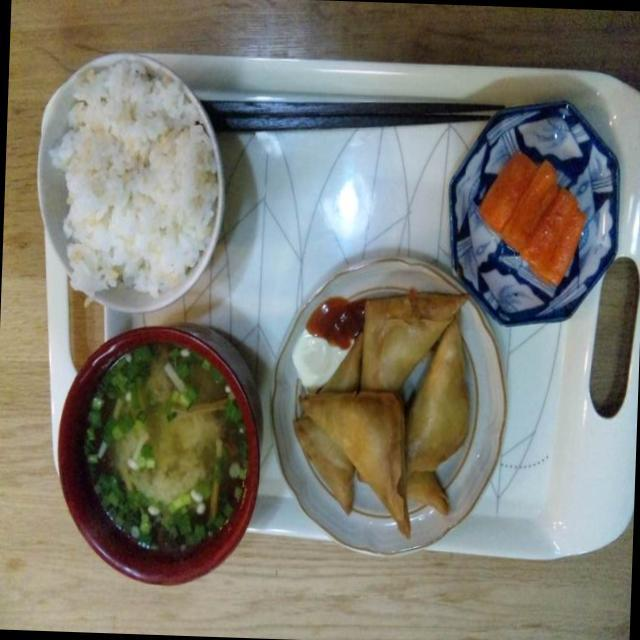Rice: (26, 30, 233, 319)
